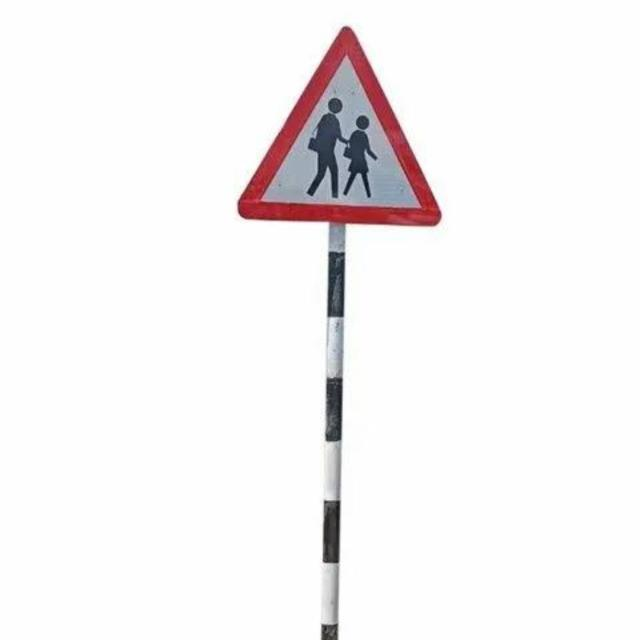school ahead: (237, 24, 439, 226)
